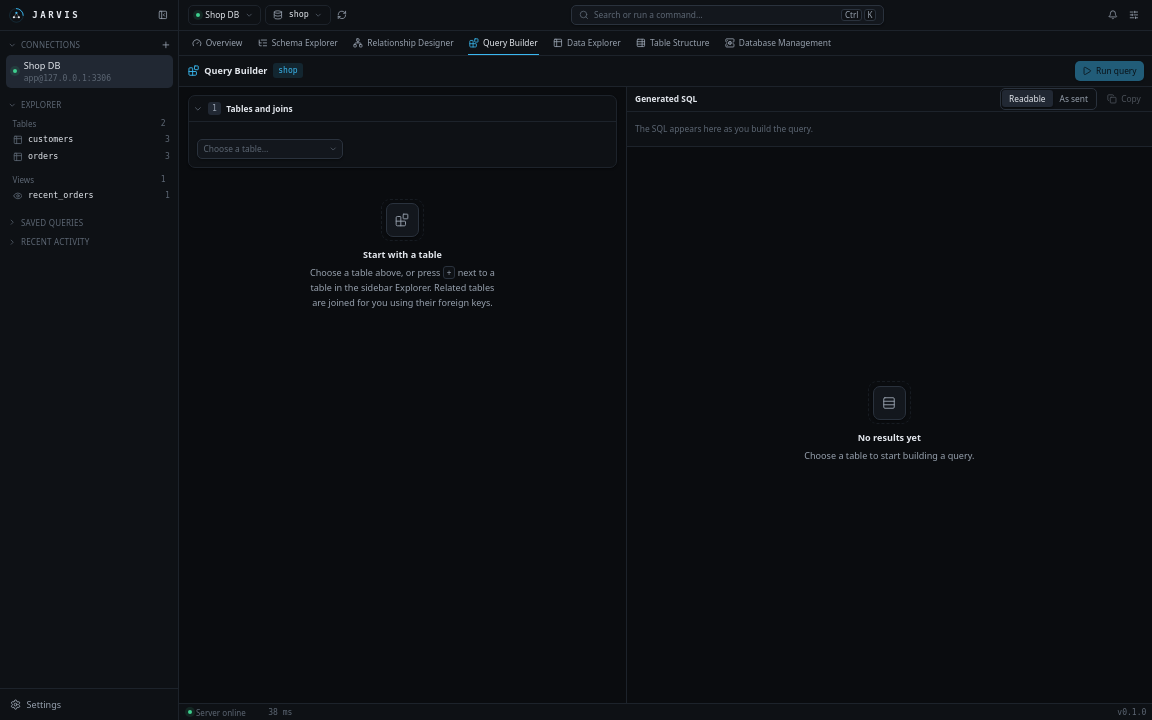
Test: visual query builder › clears the query after confirmation
The image size is (1152, 720).
Check: the heading "Query Builder" is shown, box [204, 64, 267, 78]
Select "customers" in the dropdown named "Add table" at (270, 149), box [197, 139, 343, 159]
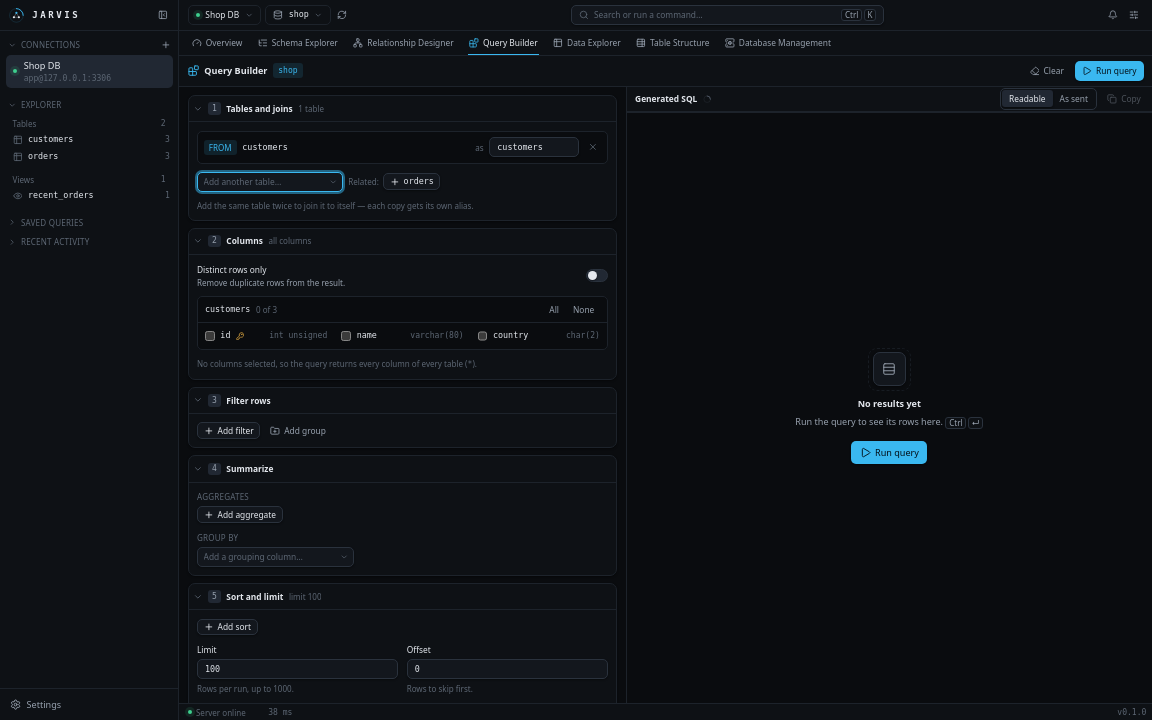
Click the button "Clear" at (1047, 71), box [1023, 61, 1071, 81]
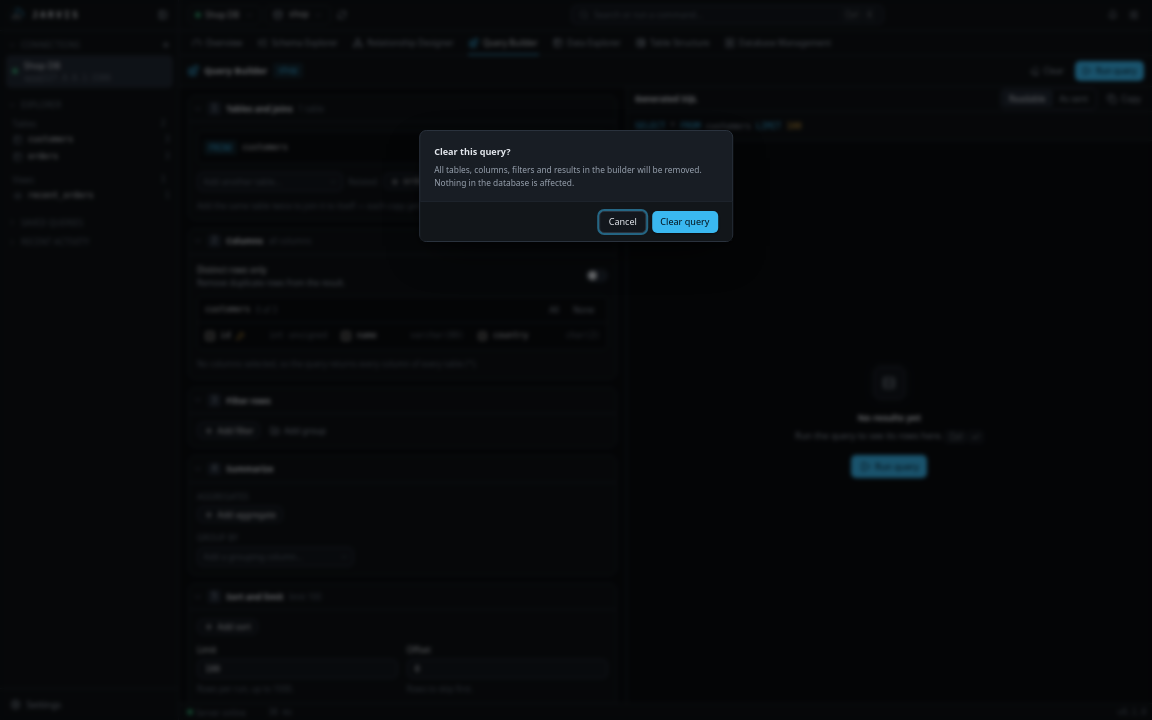
Click the button "Clear query" at (685, 222), box [652, 211, 718, 233]
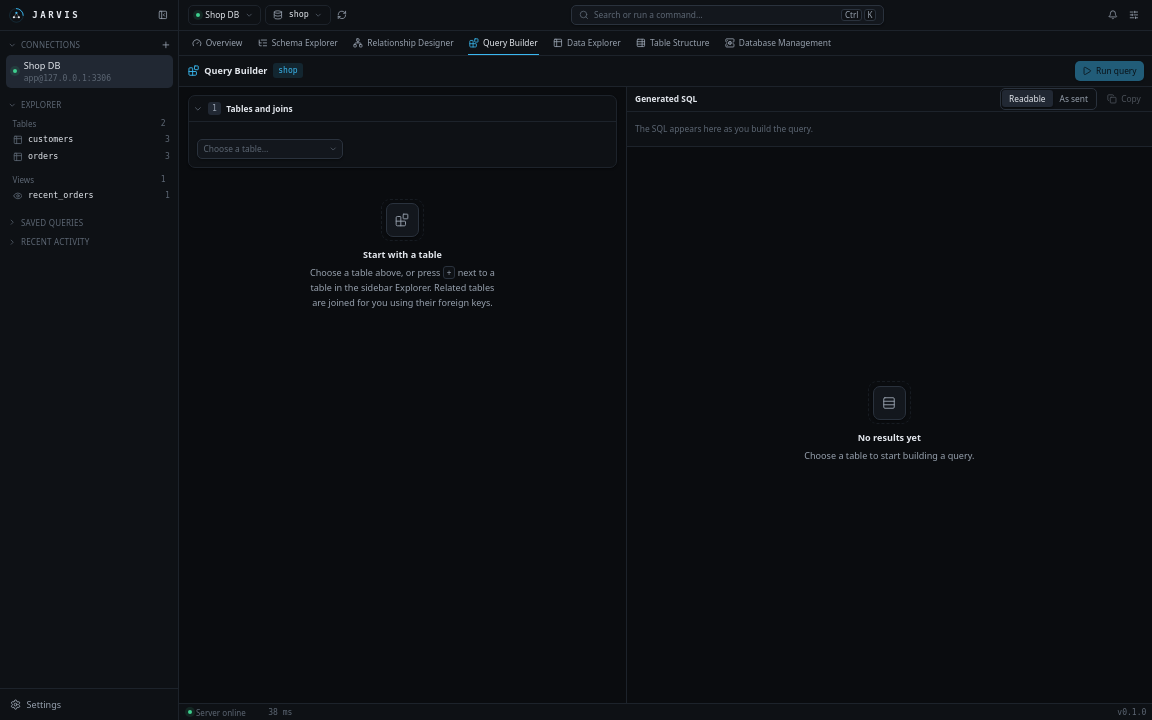
Check: the heading "Start with a table" is shown, box [363, 248, 442, 261]
